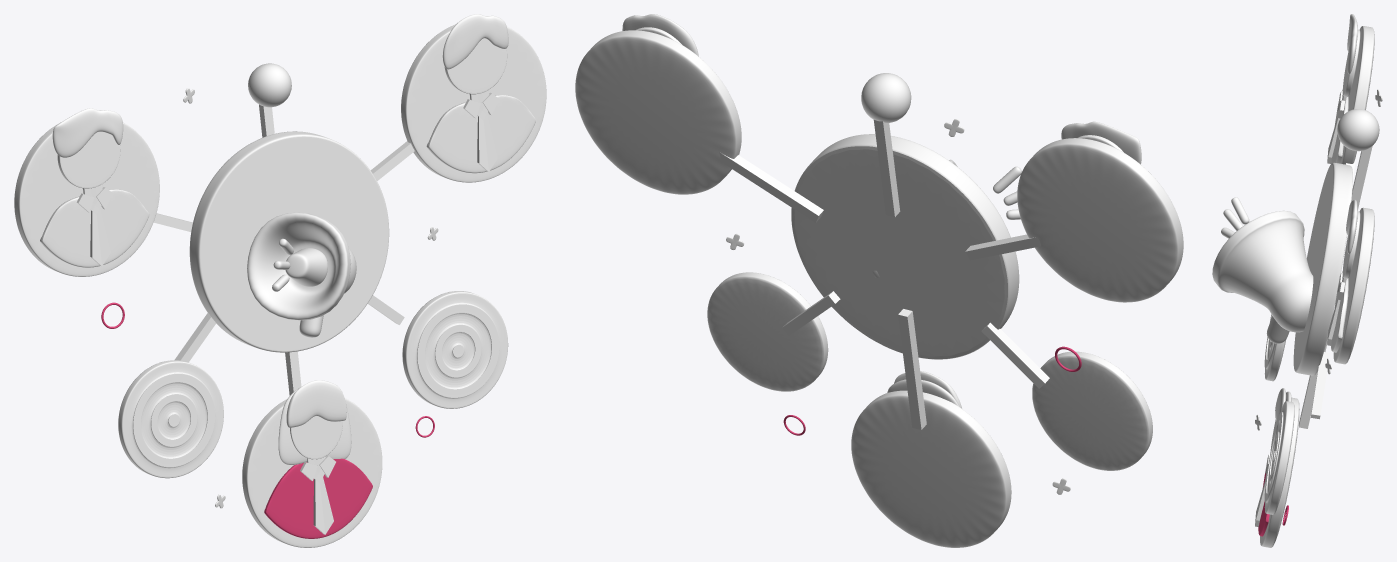
Rendered from marketing-team-3d-animated-icon-693156997600.glb.
3 renders of one model, left to right at view 1: azimuth 30°, elevation 25°; view 2: azimuth 150°, elevation 25°; view 3: azimuth 270°, elevation 25°, orthographic. The views are drawn at different scales.
Visible parts, largest first — view 1: Cylinder.001, Megaphone, Men Right, Men Left, Girl Mid, Target Board 2.001, Target Board 1.001, Girl Mid Body, Men Right Body, Men Left Body, Target Board 2, Target Board 1 (+12 smaller); view 2: Cylinder.001, Men Left, Men Right, Girl Mid, Target Board 1.001, Target Board 2.001, Sphere, Cube.004, Cube.001, Cube.006, Cube.024, Cube.008 (+4 smaller); view 3: Megaphone, Cylinder.001, Men Right, Men Left, Sphere, Target Board 2.001, Girl Mid, Target Board 2, Cube.007, Men Right Body, Cube.006, Cube.004 (+12 smaller).
Boxes of the visible parts, x1,y1,x2,y2 form: Cylinder.001: (189,131,389,352); Megaphone: (247,212,356,337); Men Right: (401,24,546,182); Men Left: (14,122,159,276); Girl Mid: (242,398,382,547); Target Board 2.001: (402,291,508,408); Target Board 1.001: (118,360,223,478); Girl Mid Body: (264,458,372,538); Men Right Body: (426,95,535,173); Men Left Body: (40,189,149,267); Target Board 2: (415,302,499,398); Target Board 1: (131,372,215,468); Cylinder.001: (791,134,1019,359); Men Left: (1017,138,1183,302); Men Right: (575,30,741,194); Girl Mid: (851,390,1011,547); Target Board 1.001: (1032,351,1152,470); Target Board 2.001: (707,272,828,391); Sphere: (861,73,911,122); Cube.004: (898,309,926,429); Cube.001: (719,152,823,222); Cube.006: (873,120,900,217); Cube.024: (1061,121,1141,164); Cube.008: (981,322,1049,388); Megaphone: (1212,210,1313,343); Cylinder.001: (1293,162,1352,375); Men Right: (1333,207,1374,364); Men Left: (1340,26,1374,164); Sphere: (1337,109,1379,151); Target Board 2.001: (1264,401,1294,514); Girl Mid: (1260,397,1299,547); Target Board 2: (1264,411,1283,503); Cube.007: (1310,352,1329,419); Men Right Body: (1331,272,1348,352); Cube.006: (1351,146,1372,210); Cube.004: (1299,338,1327,428).
Bounding box in the file's own units: 6.32 × 5.14 × 1.84.
